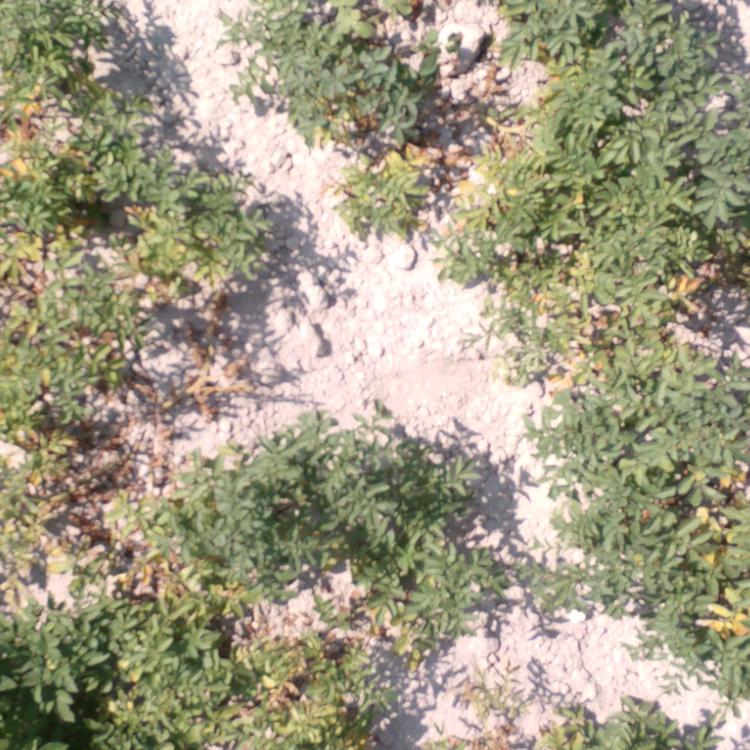healthy: (239, 420, 471, 604), (591, 74, 747, 214), (532, 391, 632, 590), (229, 1, 406, 89), (497, 1, 731, 63), (4, 616, 108, 740)
stressed: (131, 633, 377, 744), (6, 1, 129, 207), (527, 254, 713, 381), (653, 424, 747, 666), (1, 222, 136, 385), (304, 104, 462, 237), (418, 682, 700, 750), (1, 402, 105, 580), (490, 74, 581, 253), (119, 486, 221, 628), (149, 196, 253, 304)
